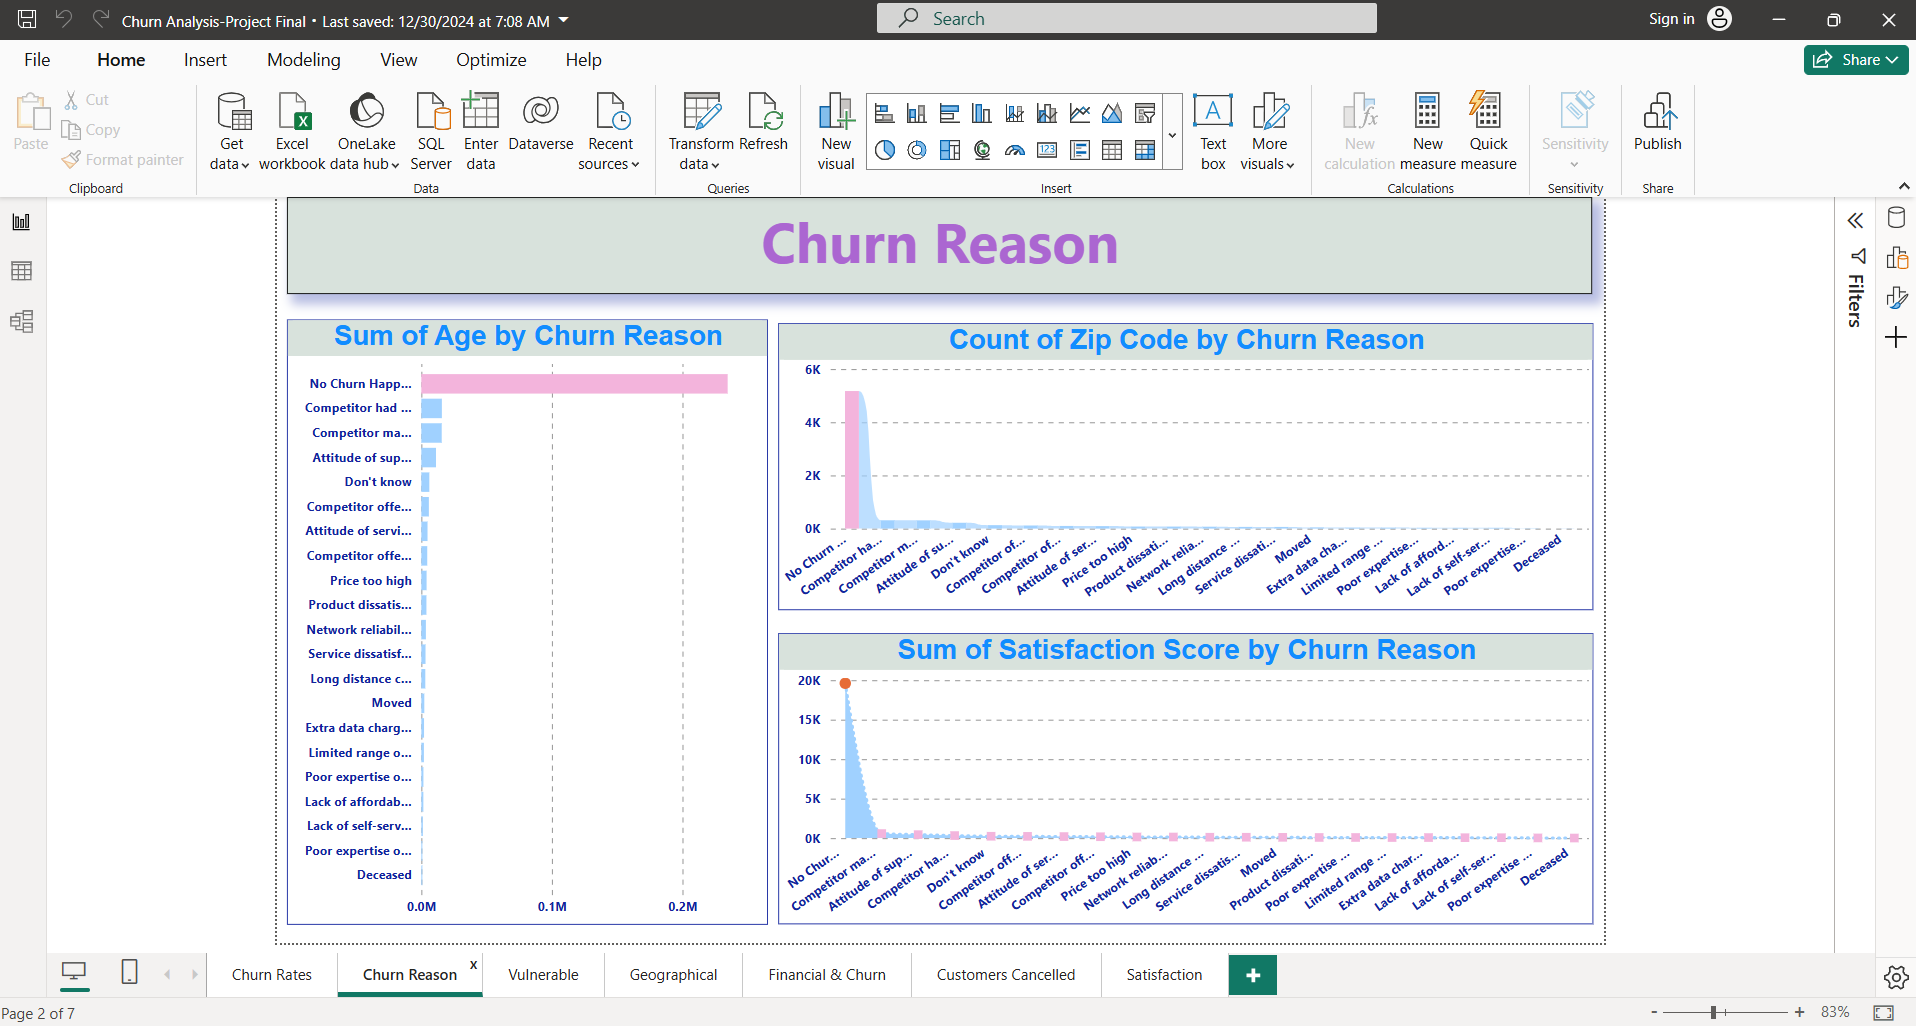

The dashboard page shown, as its layout file describes it:
{"tool":"powerbi","page":{"name":"Churn Reason","canvas":[1280,720],"ordinal":1},"visuals":[{"type":"textbox","box":[10.1,0,1259.5,93.8],"z":0},{"type":"clusteredBarChart","title":"Sum of Age by Churn Reason","fields":{"Category":["Telcom_Dataset.Churn Reason"],"Y":["Telcom_Dataset.Age"]},"box":[9.2,118.3,464,583.8],"z":1},{"type":"areaChart","title":"Sum of Satisfaction Score by Churn Reason ","fields":{"Category":["Telcom_Dataset.Churn Reason"],"Y":["Telcom_Dataset.Satisfaction Score"]},"box":[483.9,420.9,786.6,281.1],"z":2},{"type":"ribbonChart","title":"Count of Zip Code by Churn Reason","fields":{"Category":["Telcom_Dataset.Churn Reason"],"Y":["Telcom_Dataset.Zip Code"]},"box":[483.9,121.4,786.6,276.5],"z":3}]}

Visuals, with their boxes on the page's 1280x720 design canvas (x1, y1, x2, y2). These are canvas units, not pixel positions in the 1916x1026 screenshot, which may show the page scaled, cropped or inside an application window:
textbox: rect(10, 0, 1270, 94)
"Sum of Age by Churn Reason" clusteredBarChart: rect(9, 118, 473, 702)
"Sum of Satisfaction Score by Churn Reason " areaChart: rect(484, 421, 1270, 702)
"Count of Zip Code by Churn Reason" ribbonChart: rect(484, 121, 1270, 398)
